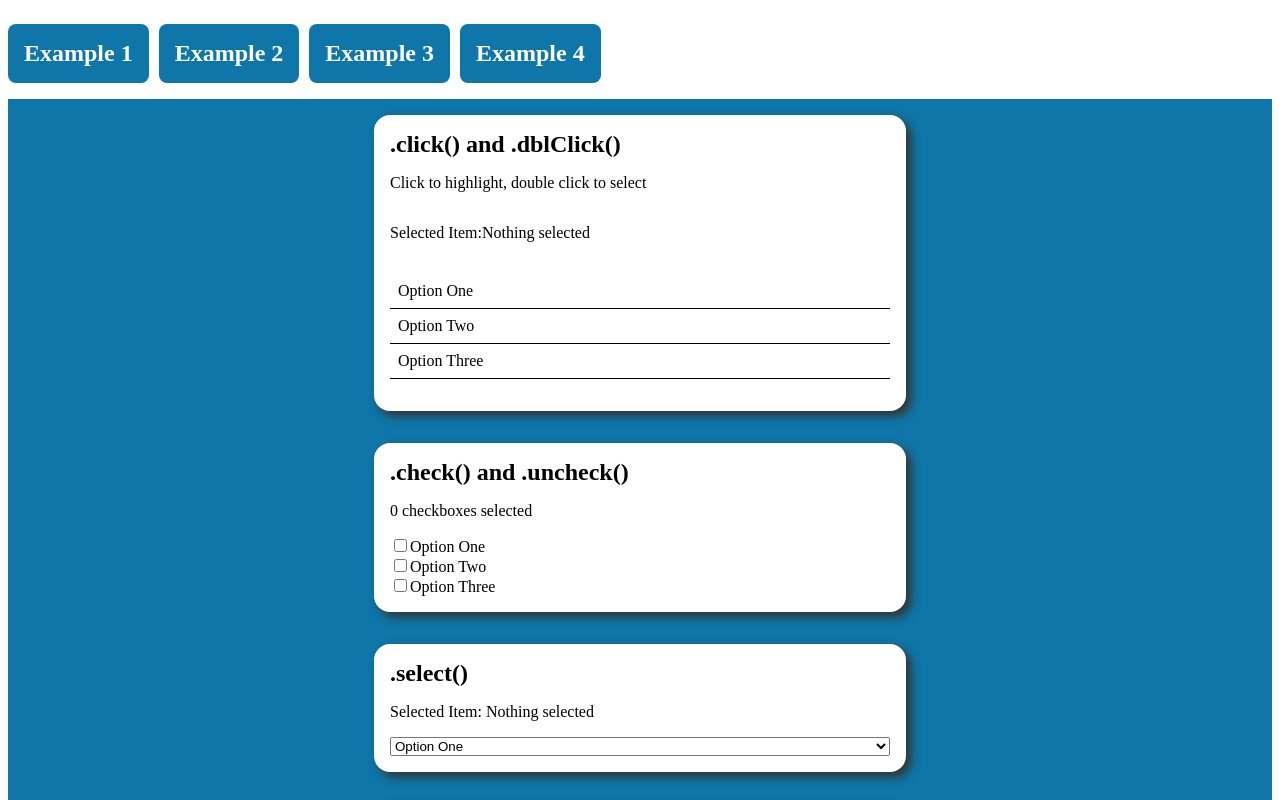
Basic page interactions › Select › displays the name of currently selected item
Select "Option Two" in the dropdown with test id "box-3-dropdown" at (640, 747), box [390,737,890,756]
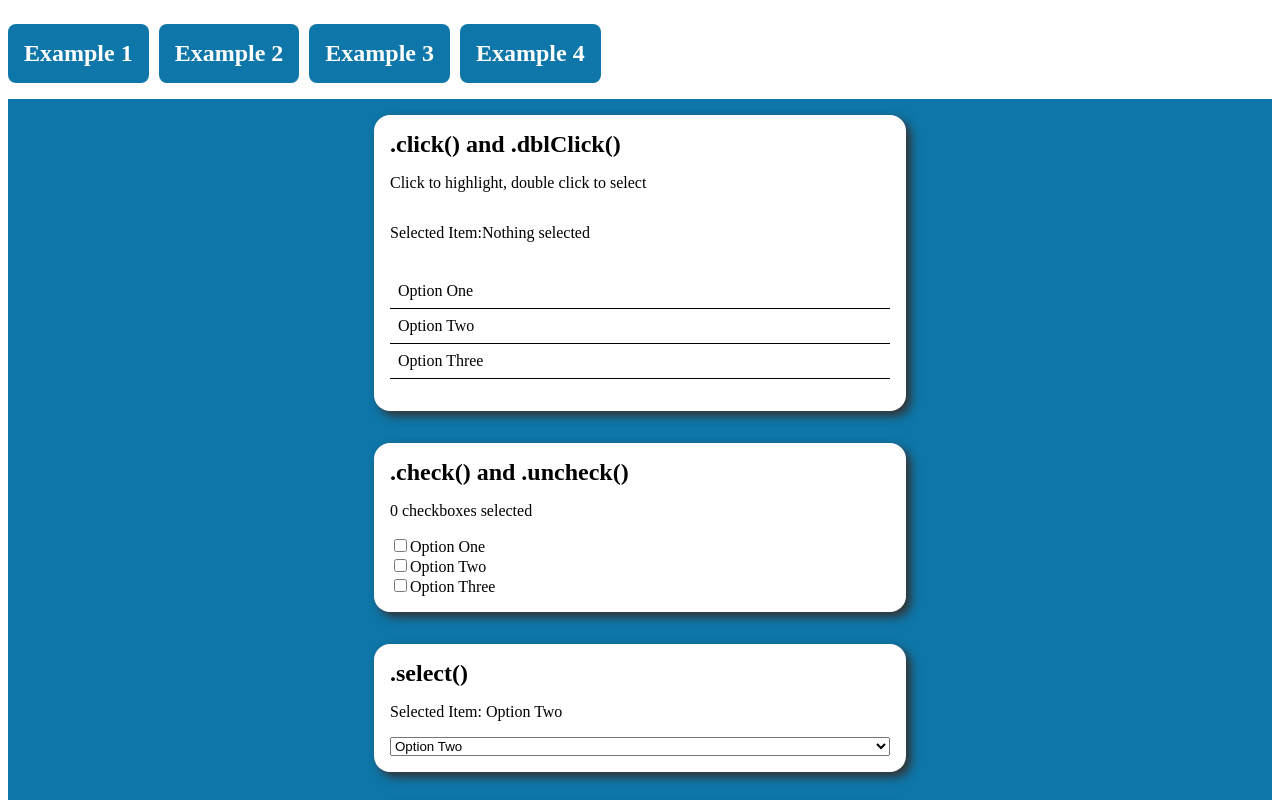
expect the text with test id "box-3-selected-name" reads "Option Two": met, box [486,703,562,720]
